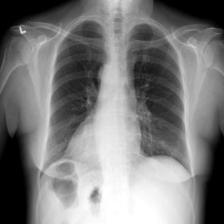normal: (39, 12, 197, 187)
